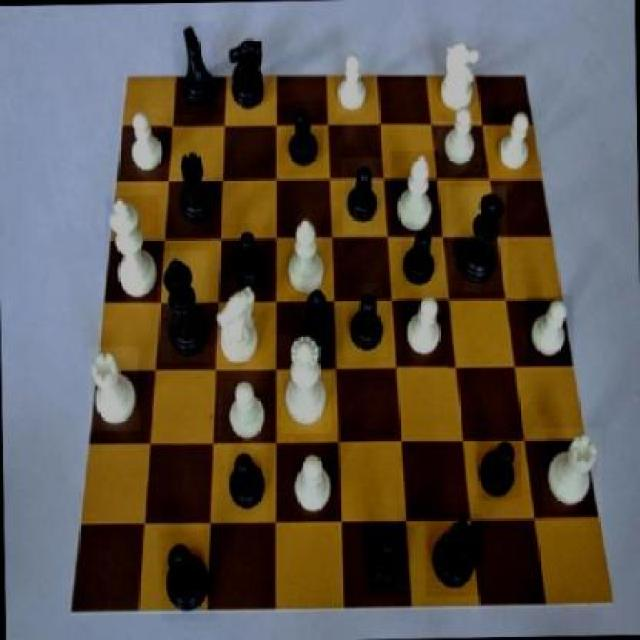bishop: (158, 531, 216, 621), (290, 283, 338, 373)
black-bishop: (157, 250, 209, 362)
black-king: (172, 21, 218, 116), (223, 34, 269, 120)
black-knight: (222, 223, 270, 301), (394, 222, 444, 294), (362, 526, 412, 597), (224, 444, 268, 524), (278, 101, 324, 177), (343, 283, 388, 359), (343, 157, 386, 235), (477, 437, 521, 500)
black-pawn: (444, 186, 508, 292)
black-queen: (425, 512, 482, 596), (172, 150, 217, 226)
black-rook: (278, 215, 332, 302), (392, 150, 440, 234)
white-bishop: (104, 196, 160, 302)
white-king: (431, 28, 484, 120), (212, 277, 260, 369)
white-knight: (397, 290, 449, 372), (217, 368, 271, 444), (291, 448, 341, 525), (488, 104, 537, 178), (432, 104, 480, 174), (526, 296, 574, 366), (331, 44, 374, 118), (124, 108, 168, 177)
white-pawn: (278, 334, 332, 434)
white-queen: (542, 428, 602, 518), (89, 346, 140, 431)
